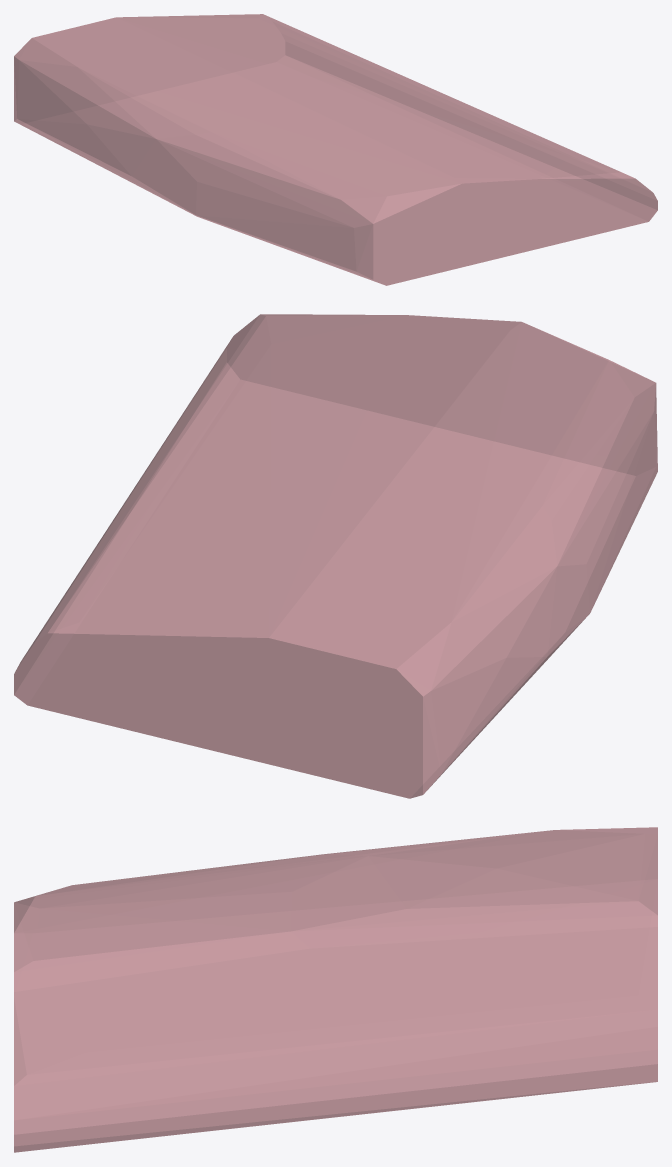
3 renders of one model, top to bottom at view 1: azimuth 30°, elevation 25°; view 2: azimuth 150°, elevation 25°; view 3: azimuth 270°, elevation 25°, orthographic. The views are drawn at different scales.
Parts seen in each view (by area): view 1: Shape_IndexedFaceSet.004_Shape_IndexedFaceSet.16313; view 2: Shape_IndexedFaceSet.004_Shape_IndexedFaceSet.16313; view 3: Shape_IndexedFaceSet.004_Shape_IndexedFaceSet.16313.
Boxes of the visible parts, left/top/right/bottom form: Shape_IndexedFaceSet.004_Shape_IndexedFaceSet.16313: left=14, top=14, right=657, bottom=285; Shape_IndexedFaceSet.004_Shape_IndexedFaceSet.16313: left=14, top=314, right=657, bottom=798; Shape_IndexedFaceSet.004_Shape_IndexedFaceSet.16313: left=14, top=827, right=657, bottom=1152.
Bounding box in the file's own units: 0.2276 × 0.0465 × 0.2586.
